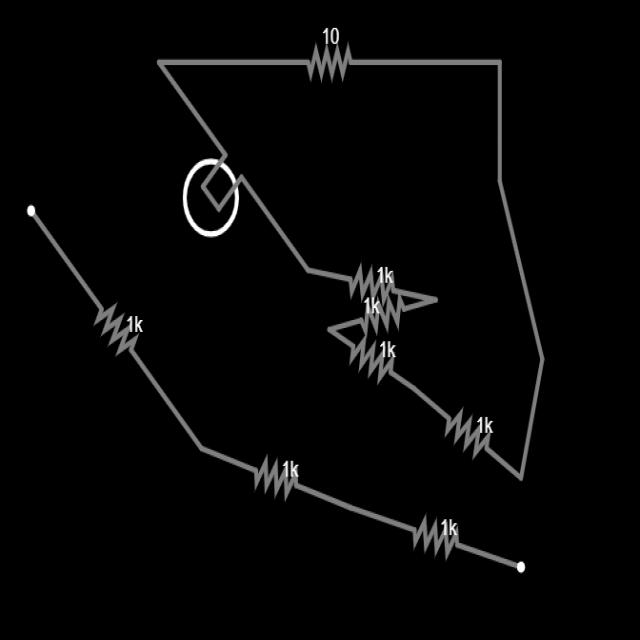Light Bulb: (182, 153, 242, 237)
Resistor: (347, 256, 398, 314), (350, 334, 398, 392), (359, 291, 410, 338), (94, 303, 139, 355), (445, 408, 490, 457), (412, 514, 459, 559), (255, 455, 298, 499), (306, 44, 351, 82)
Wire: (500, 189, 547, 360), (128, 348, 202, 452), (27, 207, 102, 308), (292, 479, 418, 535), (159, 61, 229, 160), (242, 179, 309, 273), (521, 357, 546, 487), (390, 370, 451, 423), (455, 542, 523, 572), (199, 444, 256, 476), (349, 57, 502, 67), (485, 444, 519, 480), (158, 58, 309, 65), (391, 286, 438, 304), (497, 55, 503, 189), (310, 265, 352, 284), (327, 315, 364, 335), (330, 326, 357, 351)
